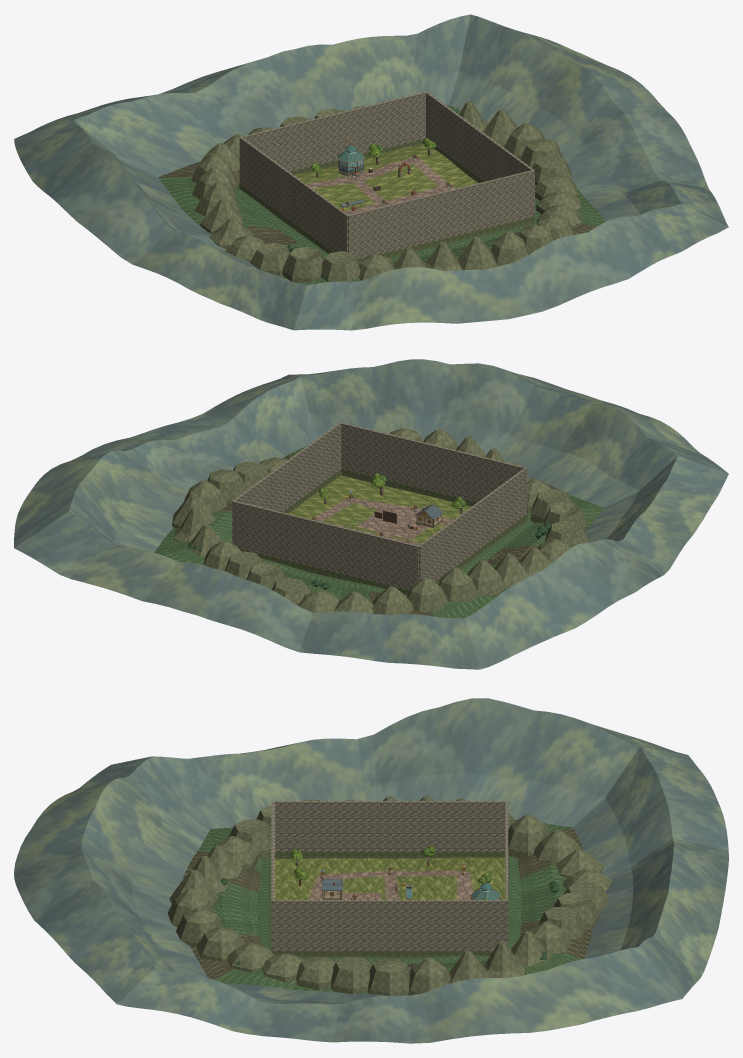
File: GlassRookery.fbx
3 renders of one model, top to bottom at view 1: azimuth 30°, elevation 25°; view 2: azimuth 150°, elevation 25°; view 3: azimuth 270°, elevation 25°, orthographic. The views are drawn at different scales.
Visible parts, largest first — view 1: Surroundings, C_Solids, Horizon, Terrain, Rim, Set; view 2: Surroundings, C_Solids, Horizon, Terrain, Rim, Set; view 3: Surroundings, C_Solids, Horizon, Terrain, Rim, Set.
Boxes of the visible parts, box(x1,y1,x2,y2) form: Surroundings: box(14, 14, 728, 330); C_Solids: box(239, 91, 534, 259); Horizon: box(191, 101, 581, 281); Terrain: box(294, 144, 478, 214); Rim: box(239, 138, 534, 263); Set: box(311, 138, 451, 210); Surroundings: box(14, 359, 728, 669); C_Solids: box(232, 422, 527, 589); Horizon: box(172, 428, 588, 614); Terrain: box(289, 475, 470, 545); Rim: box(239, 469, 527, 594); Set: box(311, 473, 466, 543); Surroundings: box(14, 698, 728, 1043); C_Solids: box(271, 801, 508, 950); Horizon: box(167, 795, 611, 995); Terrain: box(274, 857, 504, 899); Rim: box(271, 851, 508, 957); Set: box(291, 845, 501, 899).
Bounding box in the file's own units: 22619 × 3263 × 22317.
